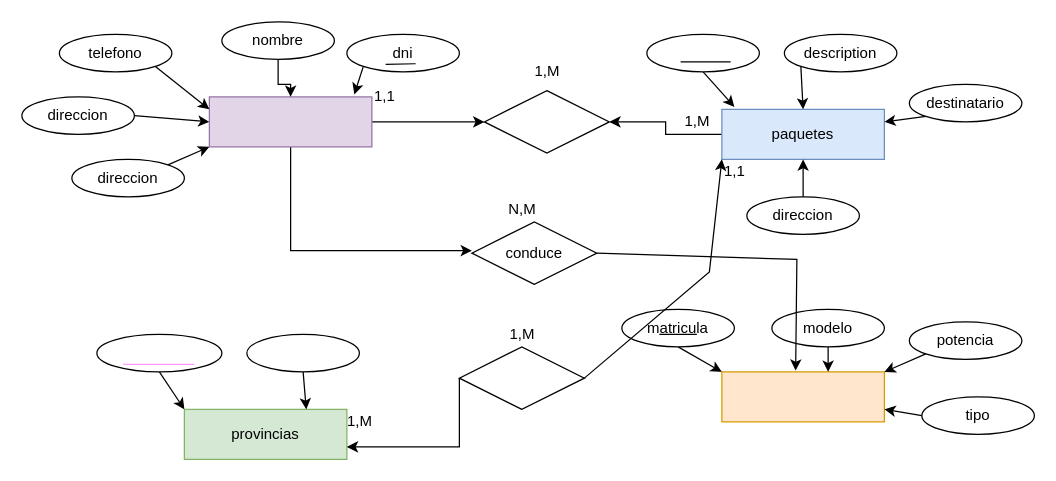
Image size: 1056x481. Some labels were removed from this diagram. Each missing label, with the box of its shape:
Camioneros: (208, 96, 372, 147)
camiones: (721, 371, 884, 422)
codigo: (646, 33, 759, 72)
coigo _provincias: (96, 333, 222, 372)
entrega: (483, 89, 609, 153)
llegan: (458, 346, 584, 409)
proivincia: (246, 333, 359, 372)
